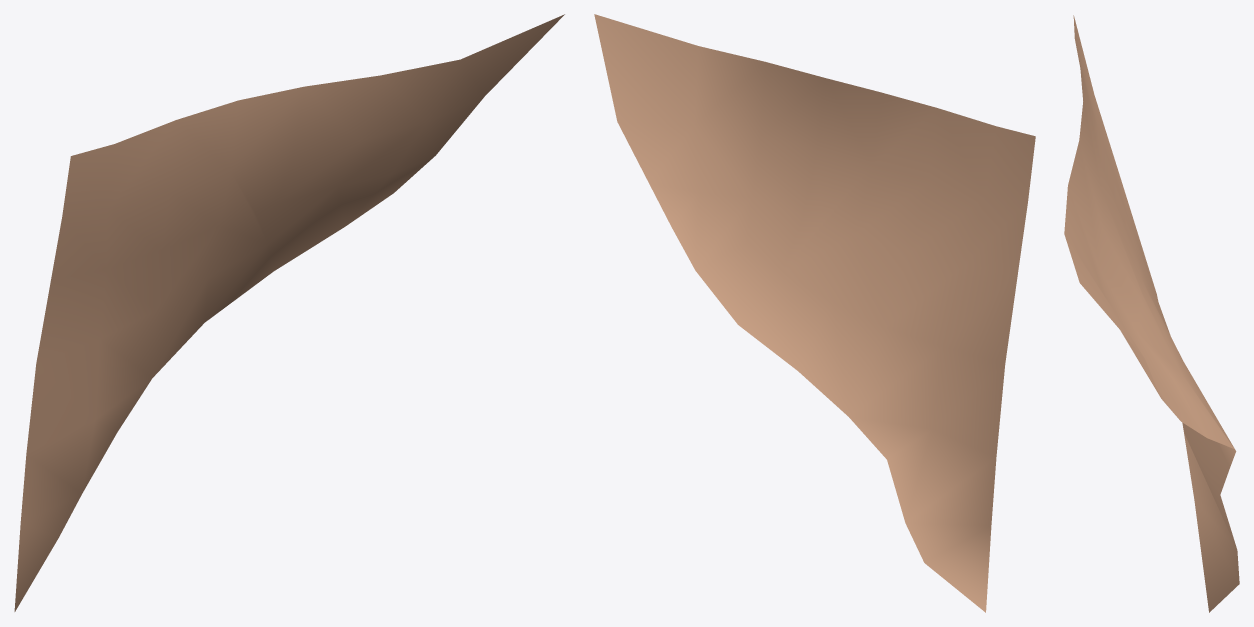
Rendered from sacral-region-l.glb.
3 renders of one model, left to right at view 1: azimuth 30°, elevation 25°; view 2: azimuth 150°, elevation 25°; view 3: azimuth 270°, elevation 25°, orthographic. The views are drawn at different scales.
Parts seen in each view (by area): view 1: Sacral region.l; view 2: Sacral region.l; view 3: Sacral region.l.
Boxes of the visible parts, box(x1,y1,x2,y2) form: Sacral region.l: box(14, 14, 564, 611); Sacral region.l: box(594, 14, 1035, 612); Sacral region.l: box(1064, 15, 1239, 612).
Bounding box in the file's own units: 0.0808 × 0.0803 × 0.0205.
